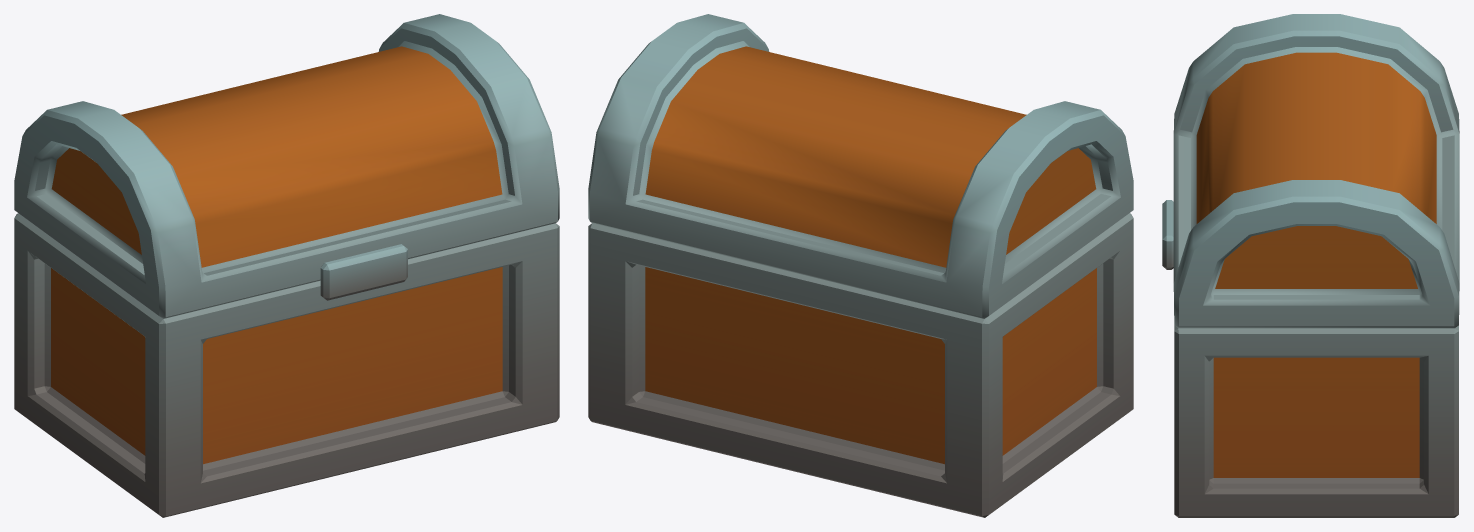
3 renders of one model, left to right at view 1: azimuth 30°, elevation 25°; view 2: azimuth 150°, elevation 25°; view 3: azimuth 270°, elevation 25°, orthographic. The views are drawn at different scales.
Parts seen in each view (by area): view 1: Box_01, Box_01.1; view 2: Box_01, Box_01.1; view 3: Box_01.1, Box_01.
Part boxes in pixels (x1,y1,x2,y2): Box_01: [14, 213, 559, 517]; Box_01.1: [14, 14, 559, 318]; Box_01: [588, 213, 1133, 517]; Box_01.1: [588, 14, 1133, 318]; Box_01.1: [1162, 14, 1459, 328]; Box_01: [1174, 325, 1458, 517].
Size of the model in its own units: 60 by 48.26 by 40.45.
